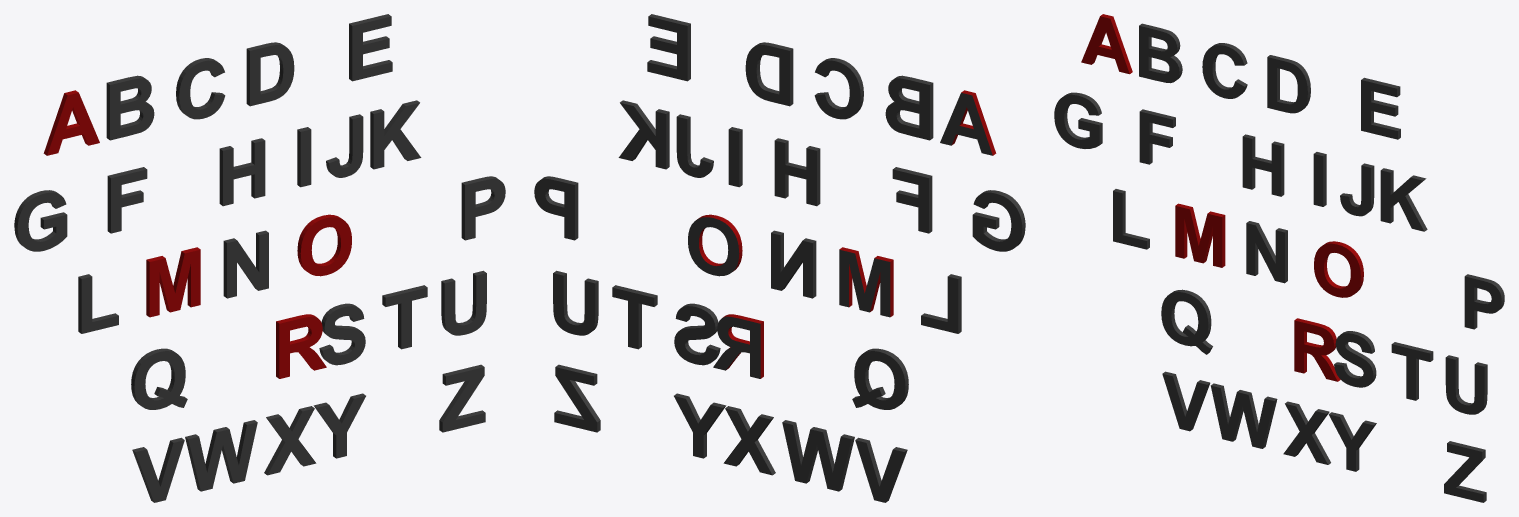
File: AtoZ.FBX
3 renders of one model, left to right at view 1: azimuth 30°, elevation 25°; view 2: azimuth 150°, elevation 25°; view 3: azimuth 330°, elevation 25°, orthographic. The views are drawn at different scales.
Visible parts, largest first — view 1: Plane033, Plane055, Plane027, Plane021, Plane009, Plane059, Plane005, Plane019, Plane057, Plane041, Plane015, Plane039 (+14 smaller); view 2: Plane033, Plane055, Plane027, Plane021, Plane009, Plane059, Plane005, Plane019, Plane057, Plane041, Plane015, Plane039 (+14 smaller); view 3: Plane055, Plane033, Plane021, Plane027, Plane019, Plane059, Plane009, Plane005, Plane041, Plane057, Plane039, Plane023 (+14 smaller).
Boxes of the visible parts, x1=… form: Plane033: x1=185, y1=420, x2=257, y2=491; Plane055: x1=146, y1=247, x2=200, y2=317; Plane027: x1=106, y1=75, x2=154, y2=140; Plane021: x1=131, y1=348, x2=187, y2=409; Plane009: x1=14, y1=190, x2=67, y2=251; Plane059: x1=276, y1=314, x2=326, y2=378; Plane005: x1=246, y1=42, x2=294, y2=106; Plane019: x1=223, y1=230, x2=268, y2=298; Plane057: x1=297, y1=214, x2=351, y2=276; Plane041: x1=219, y1=138, x2=265, y2=206; Plane015: x1=370, y1=100, x2=421, y2=169; Plane039: x1=349, y1=14, x2=392, y2=81; Plane033: x1=782, y1=420, x2=854, y2=491; Plane055: x1=839, y1=247, x2=893, y2=317; Plane027: x1=885, y1=75, x2=933, y2=140; Plane021: x1=852, y1=348, x2=908, y2=409; Plane009: x1=972, y1=190, x2=1025, y2=251; Plane059: x1=713, y1=314, x2=763, y2=378; Plane005: x1=745, y1=42, x2=793, y2=106; Plane019: x1=771, y1=230, x2=816, y2=298; Plane057: x1=688, y1=214, x2=742, y2=276; Plane041: x1=774, y1=138, x2=820, y2=206; Plane015: x1=618, y1=100, x2=669, y2=169; Plane039: x1=647, y1=14, x2=690, y2=81; Plane055: x1=1175, y1=203, x2=1225, y2=267; Plane033: x1=1210, y1=383, x2=1277, y2=448; Plane021: x1=1161, y1=289, x2=1212, y2=354; Plane027: x1=1139, y1=23, x2=1182, y2=83; Plane019: x1=1246, y1=221, x2=1287, y2=283; Plane059: x1=1294, y1=318, x2=1340, y2=381; Plane009: x1=1054, y1=92, x2=1102, y2=148; Plane005: x1=1267, y1=55, x2=1310, y2=113; Plane041: x1=1242, y1=134, x2=1284, y2=196; Plane057: x1=1314, y1=241, x2=1363, y2=297; Plane039: x1=1361, y1=77, x2=1400, y2=139; Plane023: x1=1334, y1=331, x2=1376, y2=387.
Size of the model in its own units: 569 by 479 by 6.71.
